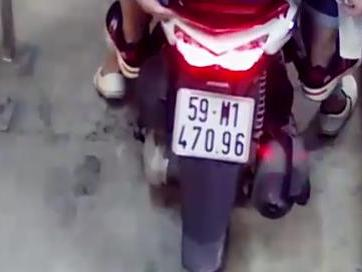num_plate: (171, 88, 255, 164)
